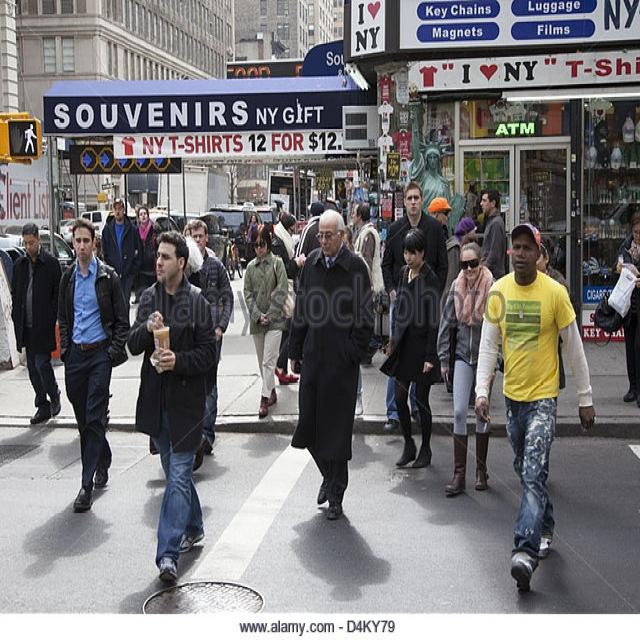body: (0, 398, 591, 610), (472, 221, 597, 595), (123, 230, 220, 583), (282, 210, 375, 521), (54, 216, 132, 513), (378, 180, 448, 433), (435, 242, 504, 498), (377, 227, 444, 472), (80, 216, 248, 306), (8, 222, 64, 427), (187, 218, 234, 461), (242, 222, 298, 419), (592, 209, 640, 410), (399, 88, 462, 231), (268, 212, 307, 387), (99, 196, 144, 313), (351, 200, 387, 299), (130, 203, 162, 305), (478, 186, 508, 281), (444, 214, 478, 290), (534, 234, 571, 297), (295, 200, 326, 258), (427, 195, 453, 239), (244, 213, 260, 242)
